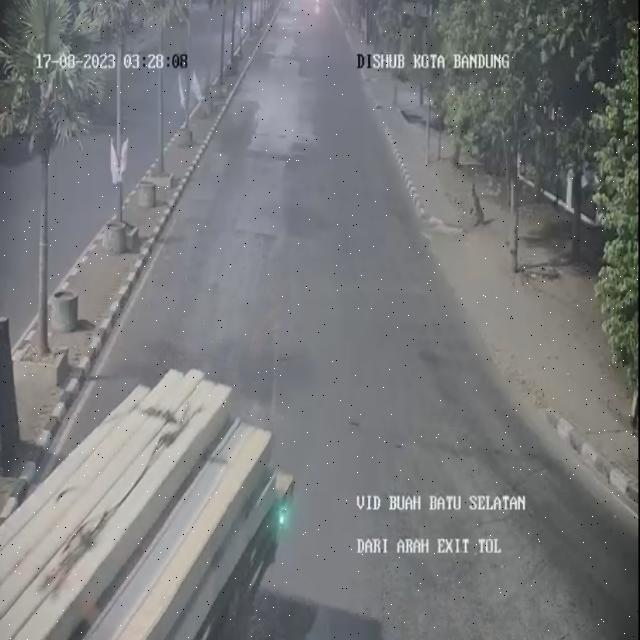truck: (0, 345, 308, 640)
